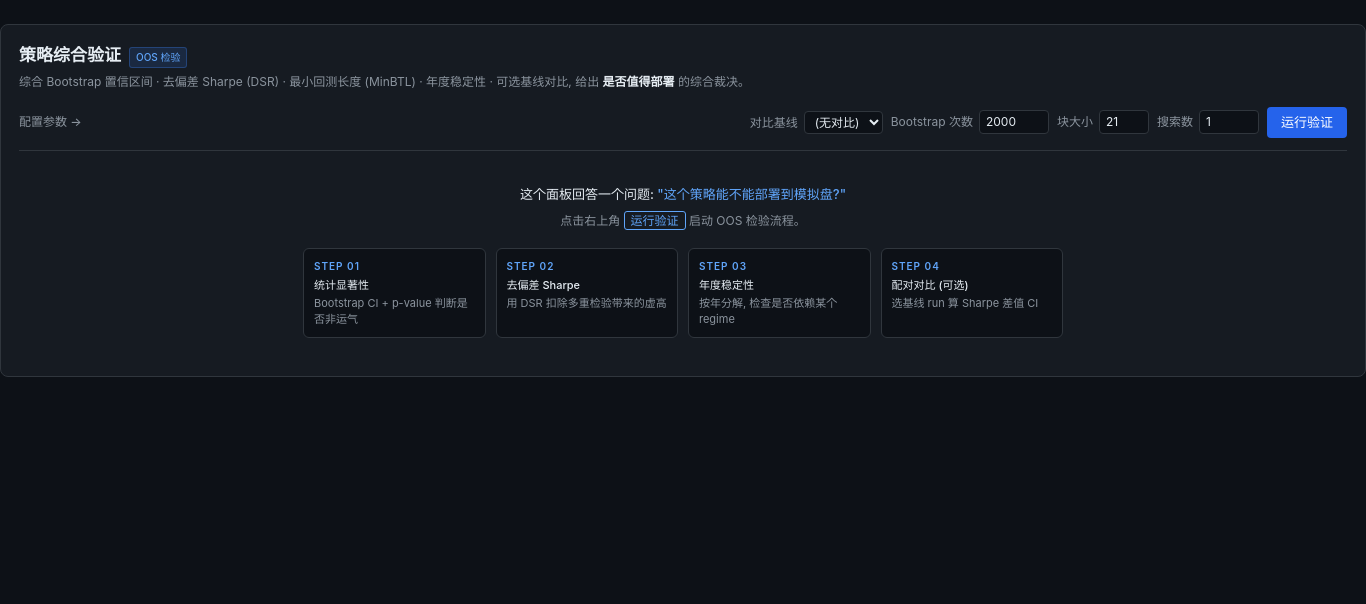
Test: ValidationPanel - verdict banner colors (V2.23.2 UX fix) › fail verdict shows failed count
Click the button "运行验证" at (1307, 122), box x1=1267 y1=106 x2=1347 y2=138
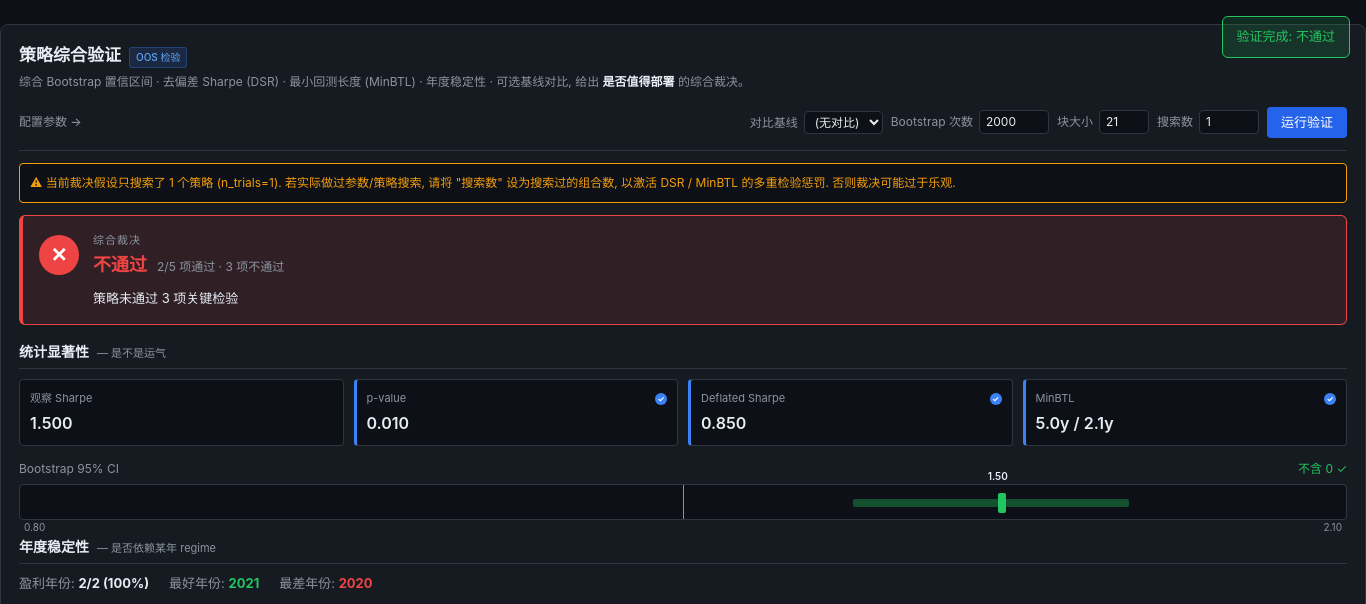
Check: the text "不通过" is shown, box x1=93 y1=254 x2=147 y2=274
Check: the text "2/5 项通过 · 3 项不通过" is shown, box x1=157 y1=258 x2=284 y2=274
